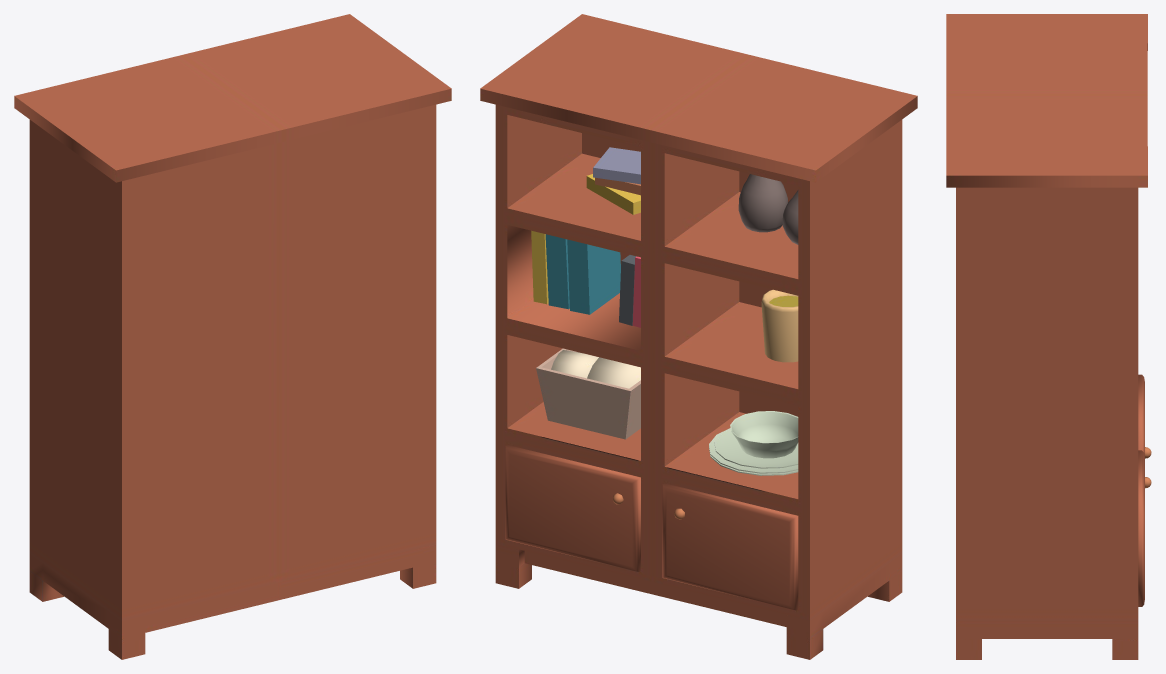
Rendered from Cupboard.fbx.
3 views of the same model, side by side, from view 1: azimuth 30°, elevation 25°; view 2: azimuth 150°, elevation 25°; view 3: azimuth 270°, elevation 25° (orthographic).
Parts seen in each view (by area): view 1: Cupboard; view 2: Cupboard, Items; view 3: Cupboard.
Boxes of the visible parts, x1=… form: Cupboard: x1=14, y1=14, x2=451, y2=659; Cupboard: x1=480, y1=14, x2=917, y2=659; Items: x1=531, y1=147, x2=798, y2=475; Cupboard: x1=946, y1=14, x2=1151, y2=659.
Bounding box in the file's own units: 199 × 107 × 281.
